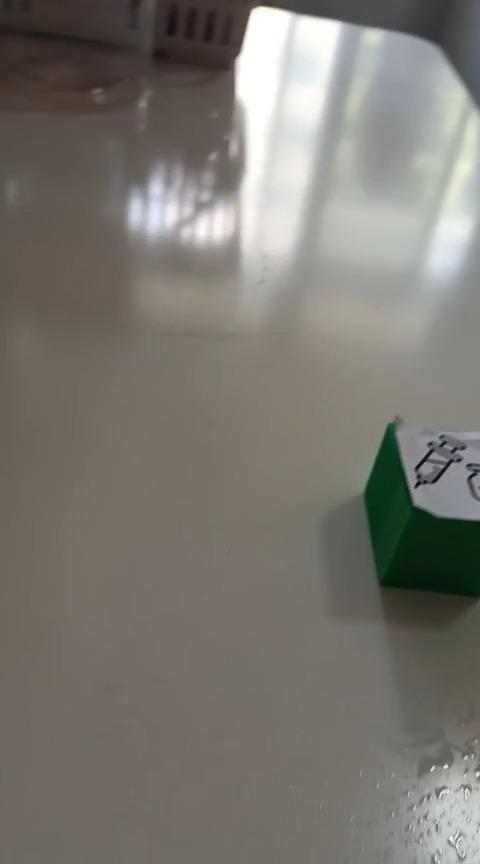antiseptic cream: (362, 413, 478, 598)
